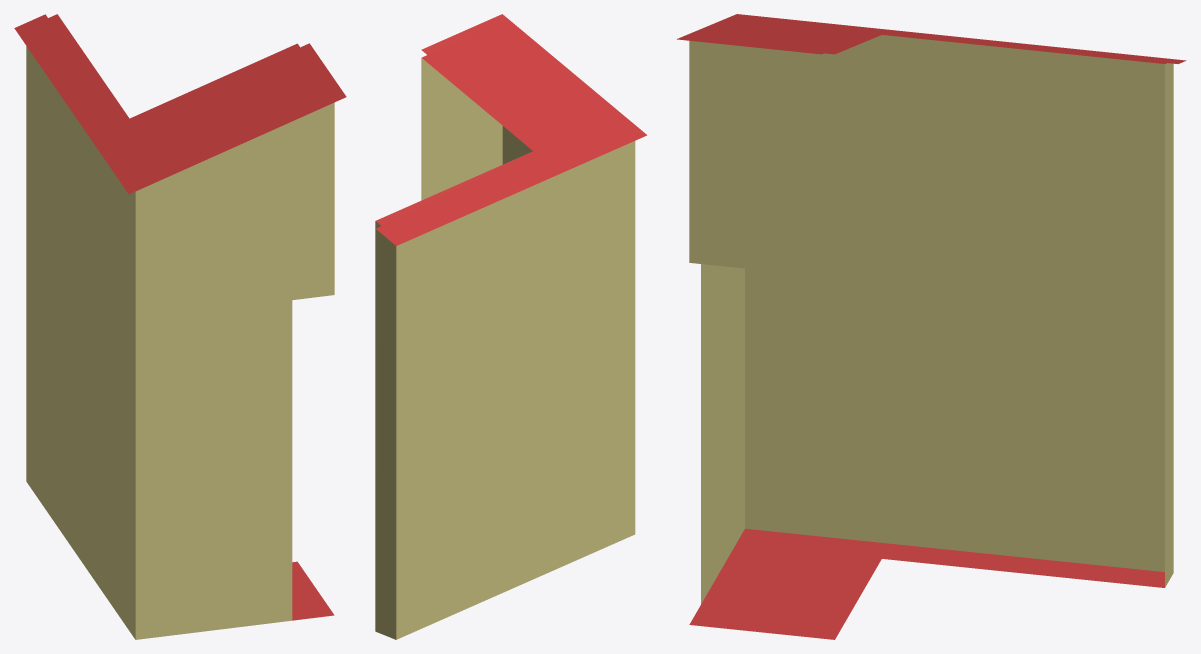
The picture shows the model from 3 angles, left to right: view 1: azimuth 30°, elevation 25°; view 2: azimuth 150°, elevation 25°; view 3: azimuth 270°, elevation 25°; orthographic projection. The views are drawn at different scales.
Bounding box in the file's own units: 6.48 × 11.64 × 14.8.
